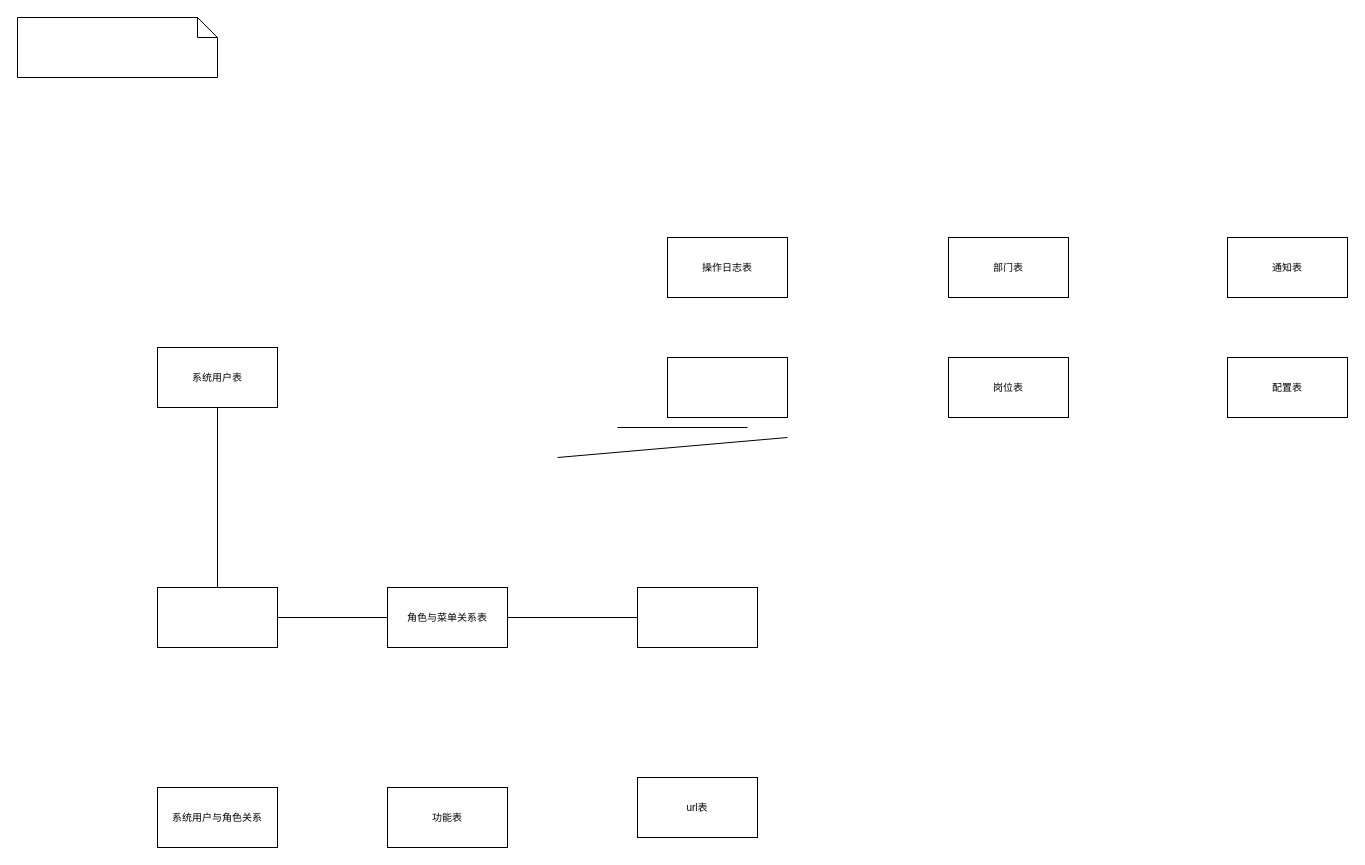
Some shapes in this 1365 by 865 pixel diagram are drawn without their labels. The box of each missing label's shape, as (x1, y1, x2, y2) in pixels:
1、车辆列表（人车关系表） 2、分享列表 （分享表） 3、白名单（钥匙表）: (16, 16, 218, 78)
系统访问记录表: (666, 356, 788, 418)
菜单表: (636, 586, 758, 648)
角色表: (156, 586, 278, 648)
